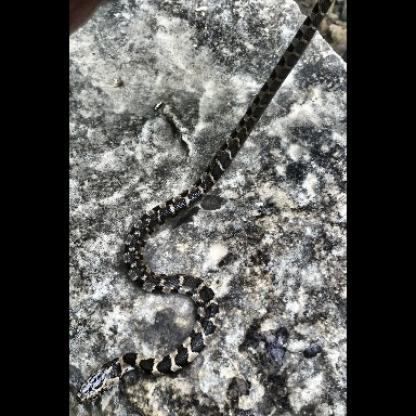Snake: (100, 0, 318, 416)
